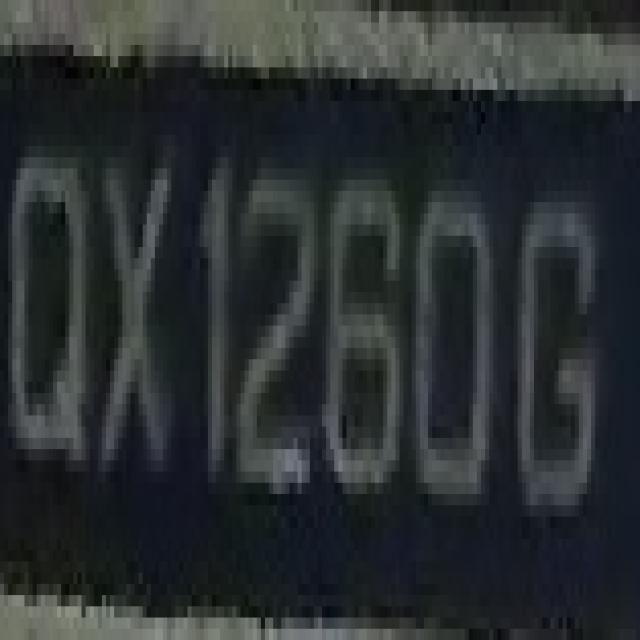0: (412, 157, 489, 528)
1: (192, 135, 232, 494)
2: (228, 146, 318, 539)
6: (318, 135, 408, 494)
G: (514, 191, 595, 550)
Q: (0, 123, 94, 506)
X: (94, 123, 183, 483)
